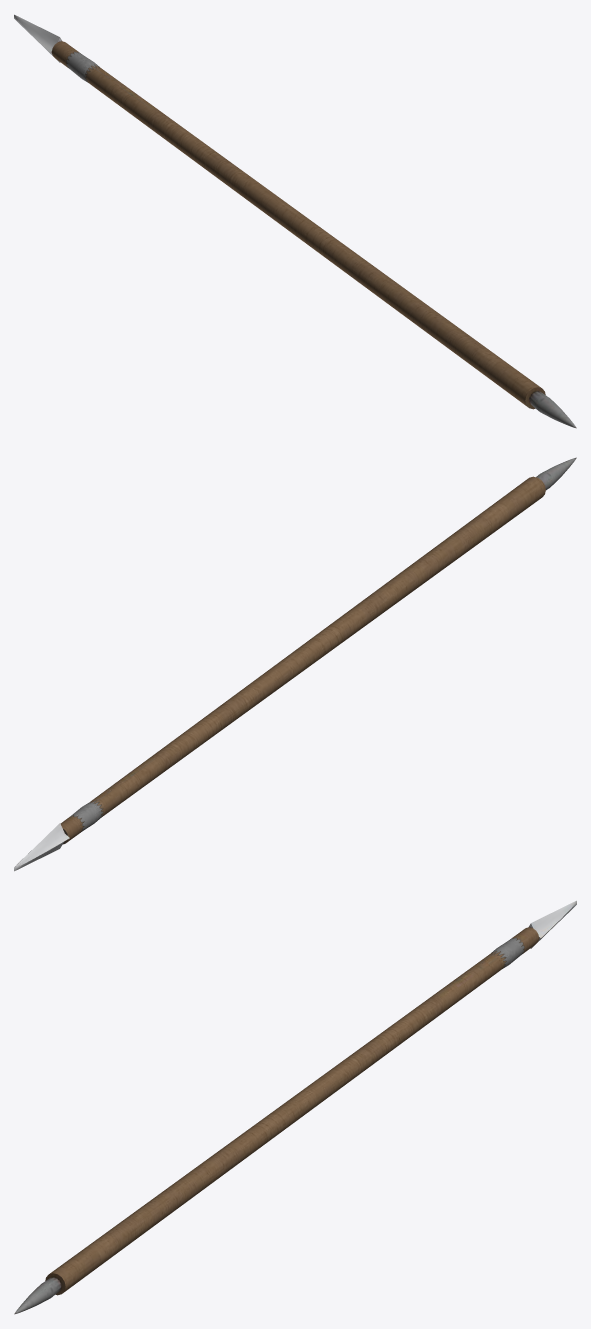
Rendered from verutum.glb.
3 renders of one model, top to bottom at view 1: azimuth 30°, elevation 25°; view 2: azimuth 150°, elevation 25°; view 3: azimuth 330°, elevation 25°, orthographic.
Visible parts, largest first — view 1: verutum; view 2: verutum; view 3: verutum.
Part boxes in pixels (<box>): verutum: <box>14,14,576,428</box>; verutum: <box>14,457,576,871</box>; verutum: <box>14,900,576,1314</box>.
Bounding box in the file's own units: 0.031 × 0.0374 × 1.47.
1 material, 1 textured.
